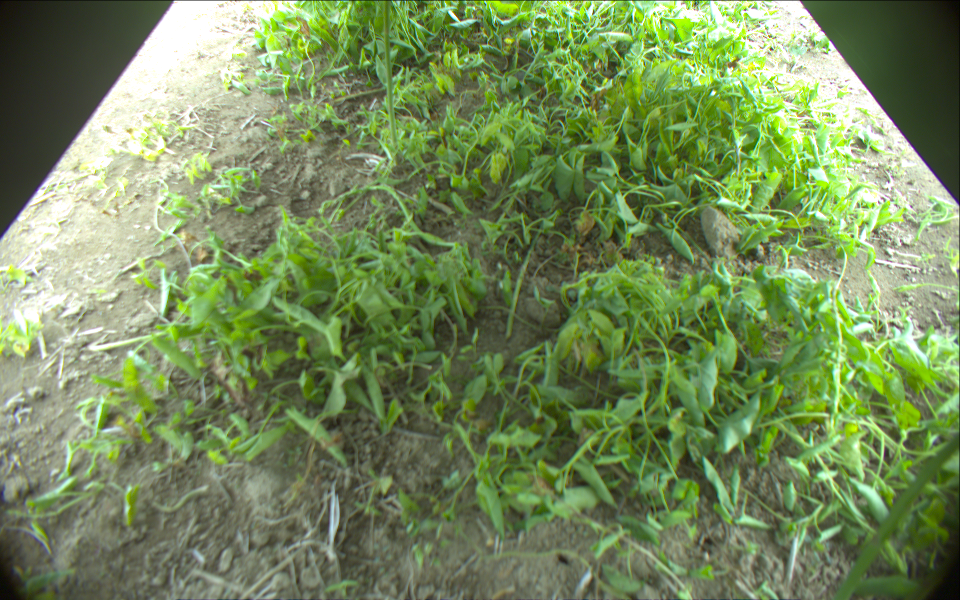aspa: (834, 430, 960, 600), (316, 184, 454, 248), (505, 220, 545, 340), (381, 1, 400, 159)
